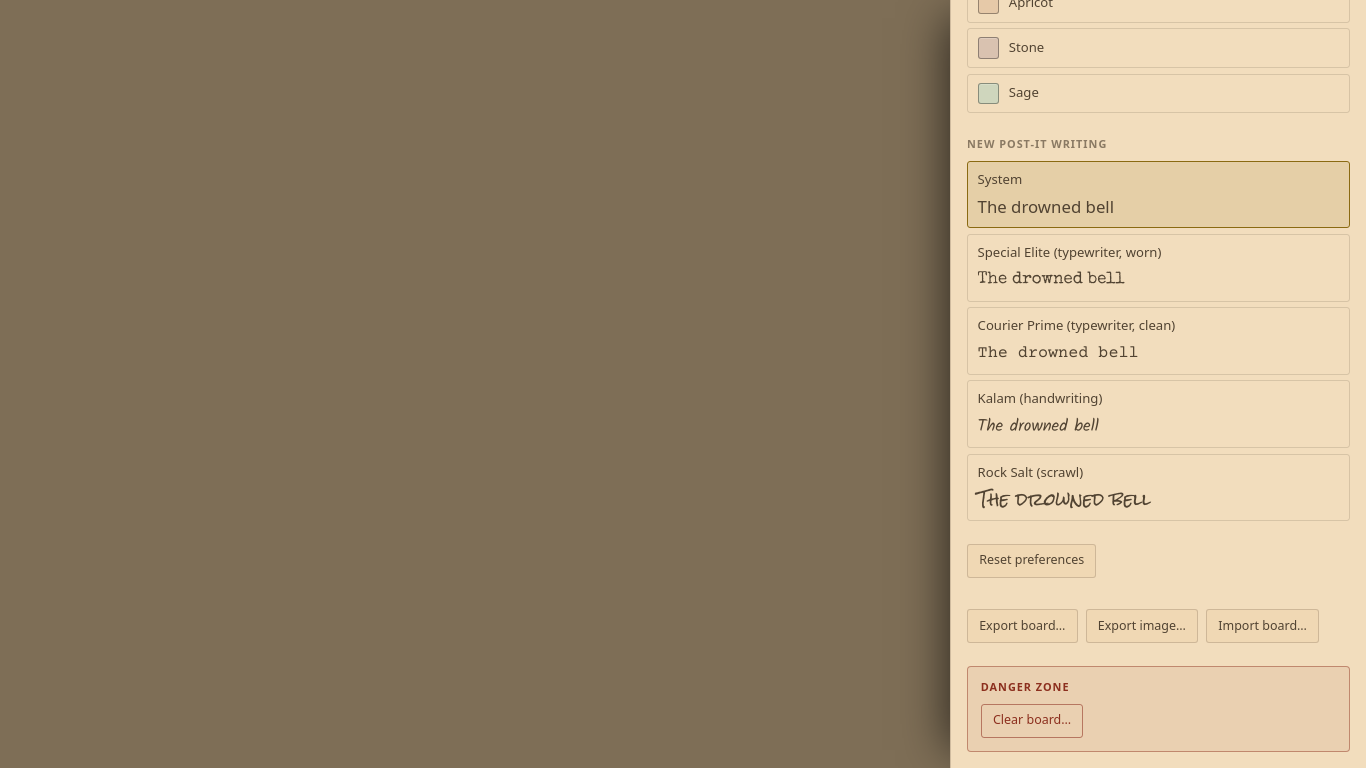
Test case: PreferencesPanel board files › will not load a file until the import has been armed
The image size is (1366, 768).
(page scrolled)
Check: the field labelled "choose a board file" is not shown
Click the button "Import board…" at x=1263, y=626, box [1206,609,1319,643]
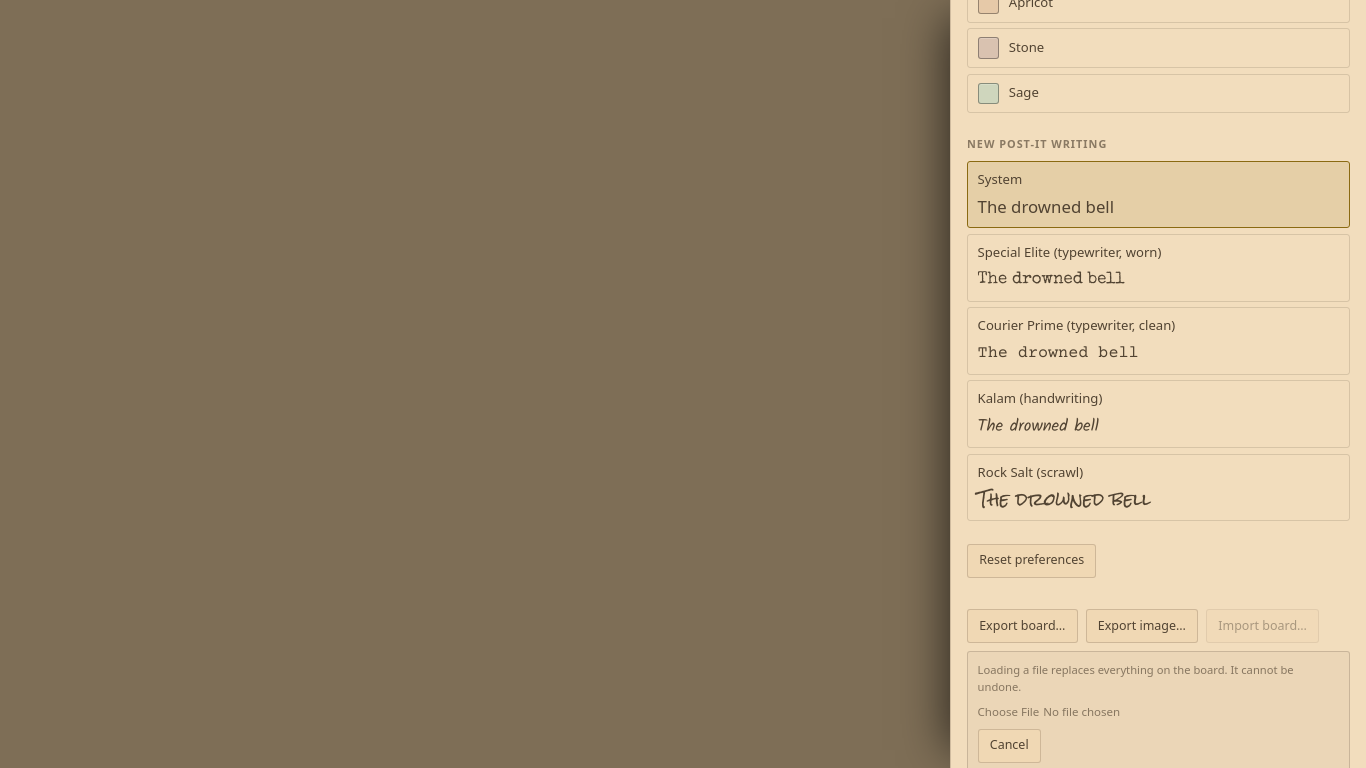
Check: the file field named "choose a board file" is shown, box [978,703,1339,721]
